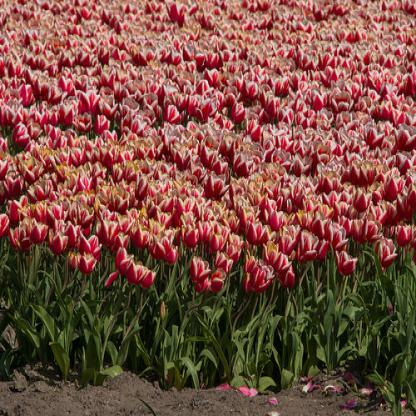TULIP: (4, 6, 414, 297)
